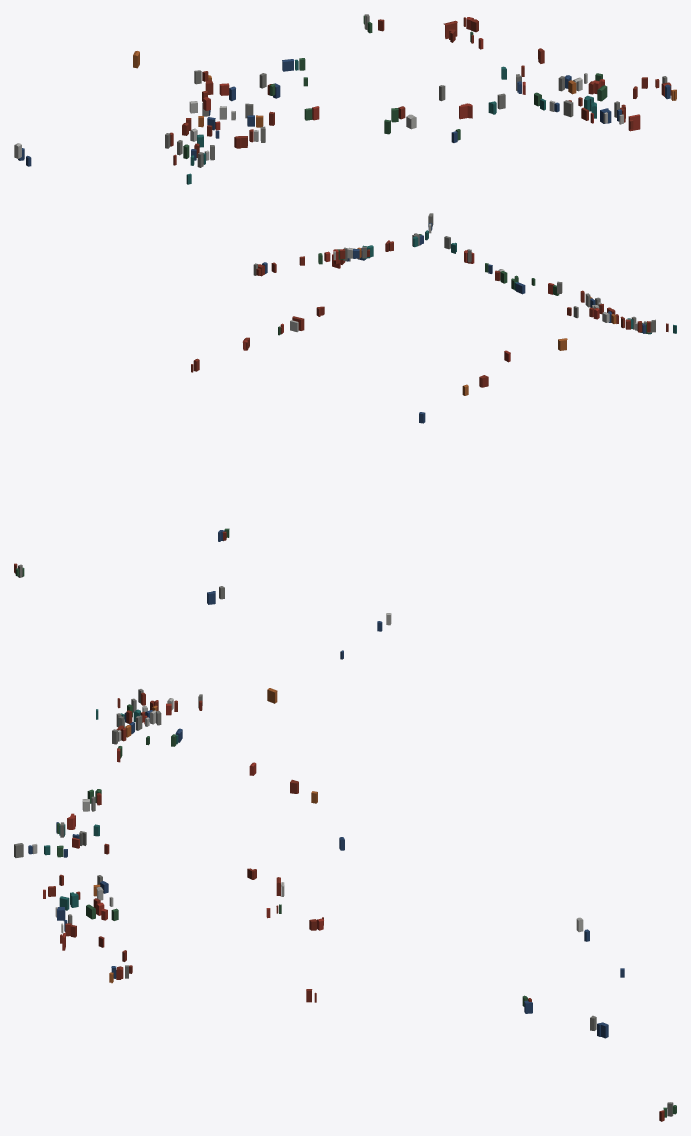
Rendered from near-15-27367-14860.1ded4208.glb.
The picture shows the model from 3 angles, top to bottom: view 1: azimuth 30°, elevation 25°; view 2: azimuth 150°, elevation 25°; view 3: azimuth 270°, elevation 25°; orthographic projection. The views are drawn at different scales.
Bounding box in the file's own units: 952 × 502 × 1168.
